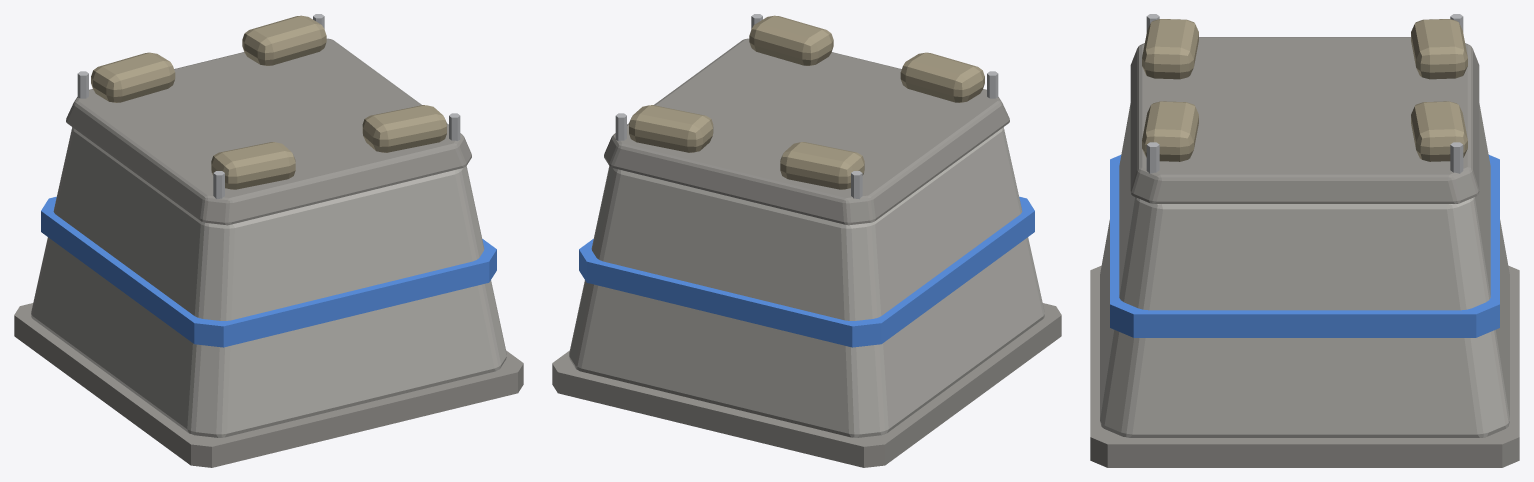
The model's file is wall_blue.glb.
The picture shows the model from 3 angles, left to right: view 1: azimuth 30°, elevation 25°; view 2: azimuth 150°, elevation 25°; view 3: azimuth 270°, elevation 25°; orthographic projection. The views are drawn at different scales.
Parts seen in each view (by area): view 1: Body; view 2: Body; view 3: Body.
Part boxes in pixels (x1,y1,x2,y2): Body: (14, 14, 523, 467); Body: (552, 14, 1061, 467); Body: (1090, 14, 1519, 467).
Size of the model in its own units: 1.98 by 1.54 by 1.98.
